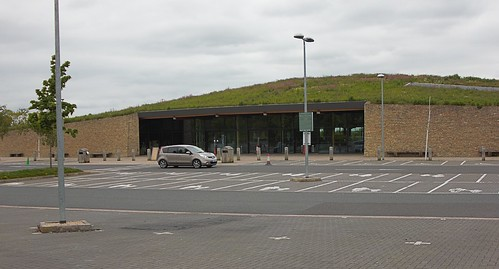car: (157, 141, 223, 167)
sky: (9, 1, 499, 75)
tree: (29, 60, 80, 158)
